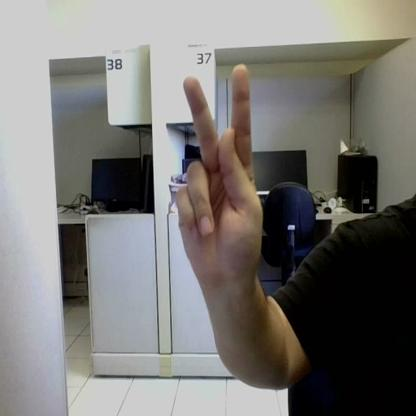K: (178, 65, 262, 283)
